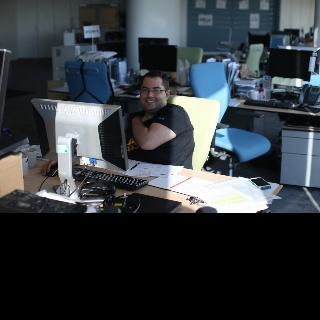without_mask: (139, 70, 170, 110)
